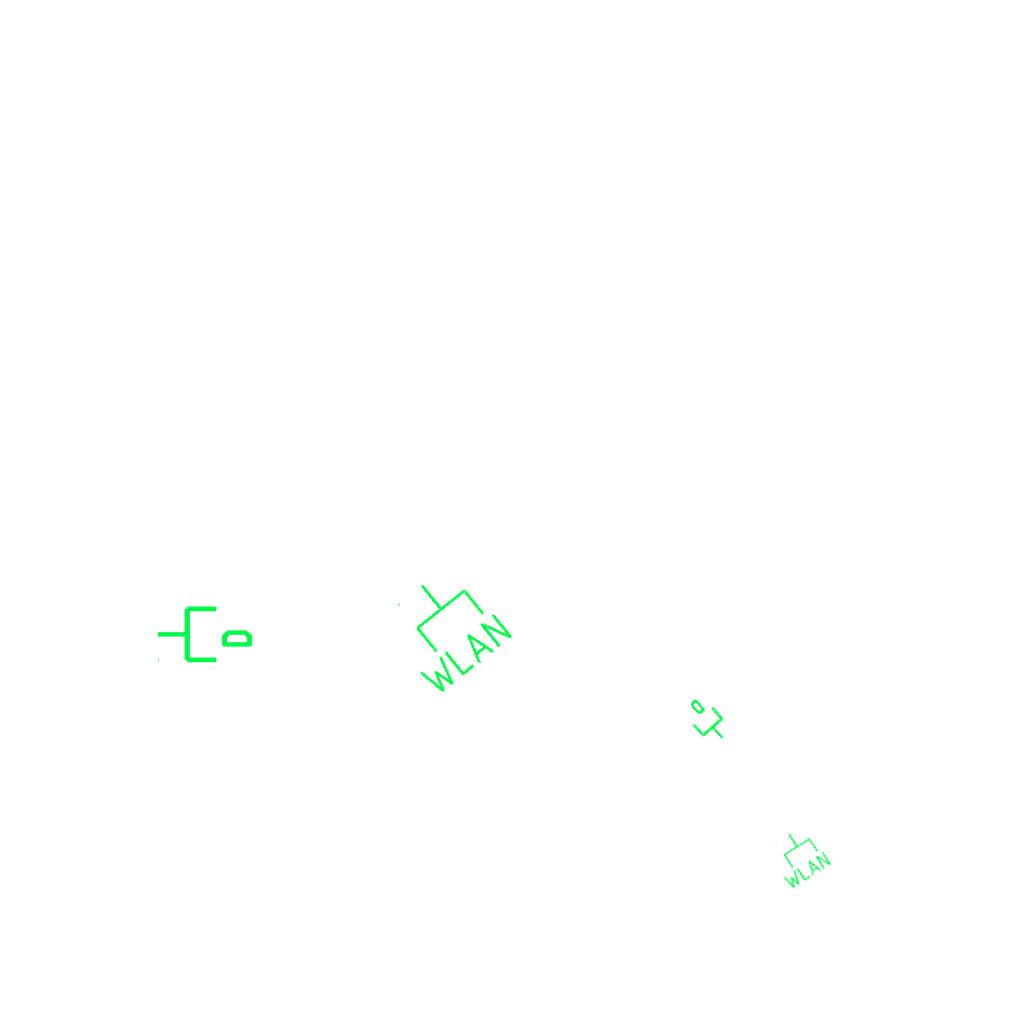Datenanschluss_einfach: (155, 598, 255, 667), (676, 691, 736, 751)
WLAN: (371, 556, 519, 703), (762, 821, 834, 893)
